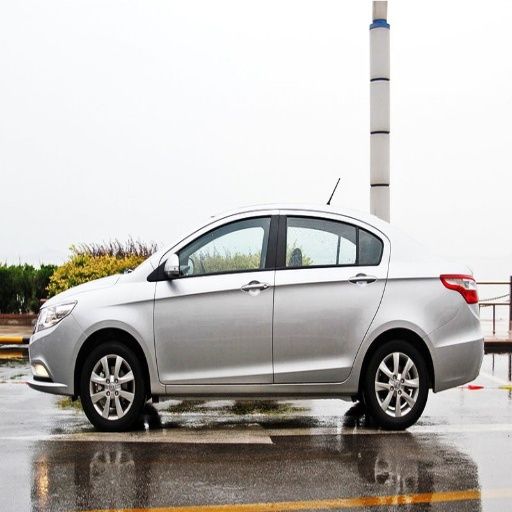back_left_door: (274, 213, 388, 382)
front_left_door: (153, 213, 278, 383)
